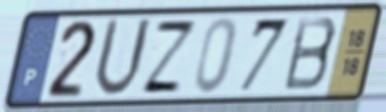0: (191, 14, 240, 98)
2: (44, 17, 100, 101)
7: (236, 16, 292, 94)
B: (280, 14, 340, 94)
U: (90, 15, 155, 101)
Z: (137, 18, 201, 96)
